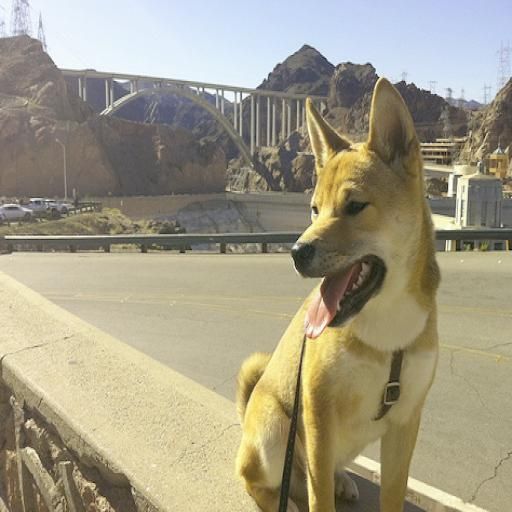dog_face: (291, 102, 419, 326)
